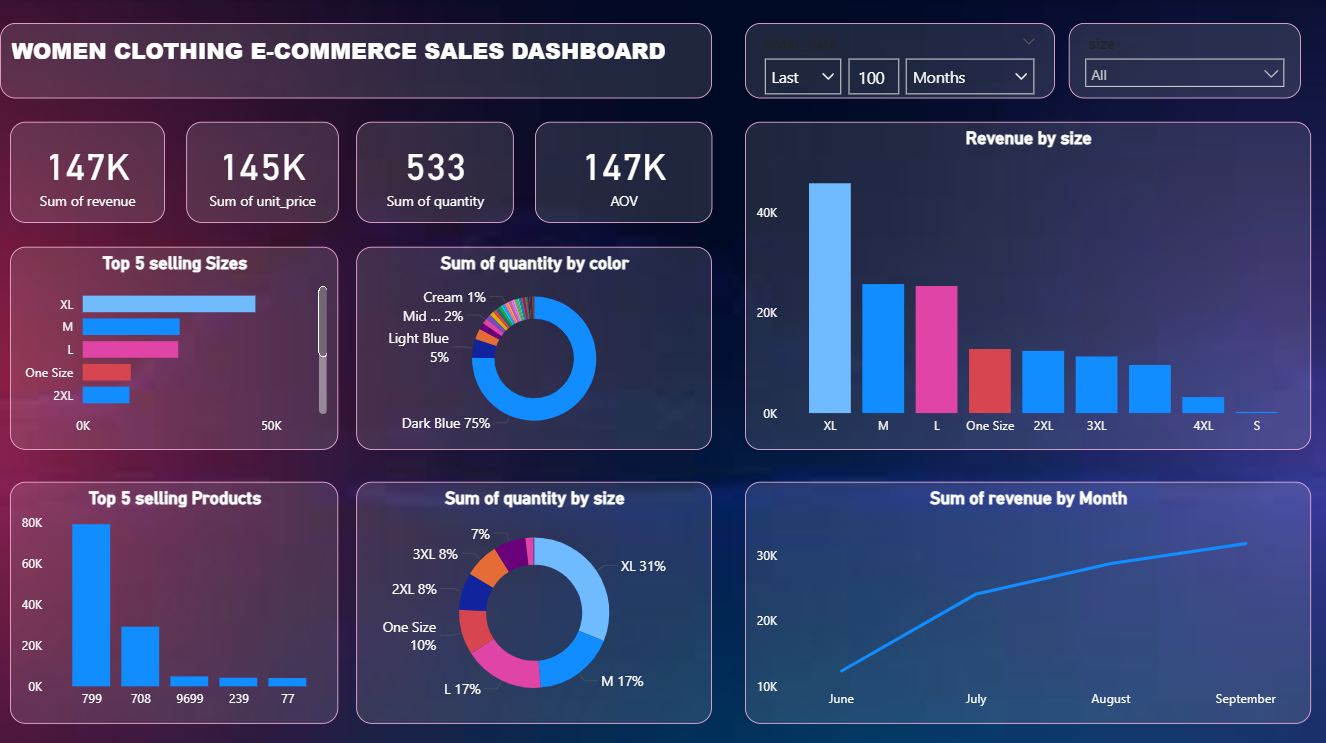

The page's visual inventory and layout, read from the dashboard file:
{"tool":"powerbi","page":{"name":"Page 1","canvas":[1280,720],"ordinal":0},"visuals":[{"type":"textbox","box":[0,24.7,687.5,72.7],"z":0},{"type":"columnChart","title":" Revenue by size","fields":{"Category":["women_clothing_ecommerce_sales (2).size"],"Y":["Sum(women_clothing_ecommerce_sales (2).revenue)"]},"box":[719,119.4,546.1,317],"z":1000},{"type":"lineChart","fields":{"Y":["Sum(women_clothing_ecommerce_sales (2).revenue)"],"Category":["women_clothing_ecommerce_sales (2).order_date.Variation.Date Hierarchy.Month"]},"box":[719,466.6,546.1,233.3],"z":2000},{"type":"donutChart","fields":{"Y":["Sum(women_clothing_ecommerce_sales (2).quantity)"],"Category":["women_clothing_ecommerce_sales (2).size"]},"box":[344.4,466.6,343.1,233.3],"z":3000},{"type":"donutChart","fields":{"Category":["women_clothing_ecommerce_sales (2).color"],"Y":["Sum(women_clothing_ecommerce_sales (2).quantity)"]},"box":[344.4,240.1,343.1,196.2],"z":4000},{"type":"card","fields":{"Values":["Sum(women_clothing_ecommerce_sales (2).revenue)"]},"box":[9.6,119.4,149.6,97.4],"z":5000},{"type":"card","fields":{"Values":["Sum(women_clothing_ecommerce_sales (2).unit_price)"]},"box":[179.8,119.4,146.8,97.4],"z":6000},{"type":"card","fields":{"Values":["Sum(women_clothing_ecommerce_sales (2).quantity)"]},"box":[344.4,119.4,152.3,97.4],"z":7000},{"type":"card","fields":{"Values":["Sum(women_clothing_ecommerce_sales (2).revenue)"]},"box":[516,119.4,171.5,97.4],"z":8000},{"type":"clusteredBarChart","title":"Top 5 selling Sizes","fields":{"Category":["women_clothing_ecommerce_sales (2).size"],"Y":["Sum(women_clothing_ecommerce_sales (2).revenue)"]},"box":[9.6,240.1,317,196.2],"z":9000},{"type":"columnChart","title":"Top 5 selling Products","fields":{"Category":["women_clothing_ecommerce_sales (2).sku"],"Y":["Sum(women_clothing_ecommerce_sales (2).revenue)"]},"box":[9.6,466.6,317,233.3],"z":10000},{"type":"slicer","fields":{"Values":["women_clothing_ecommerce_sales (2).size"]},"box":[1031.9,24.7,223.7,72.7],"z":11000},{"type":"slicer","fields":{"Values":["women_clothing_ecommerce_sales (2).order_date"]},"box":[719,24.7,299.1,72.7],"z":12000}]}

Visuals, with their boxes in screenshot pixels (x1, y1, x2, y2), scaled from the page's 1280x720 canvas onto the 1326x743 screenshot:
textbox: l=0, t=25, r=712, b=101
" Revenue by size" columnChart: l=745, t=123, r=1311, b=450
lineChart - Sum(women_clothing_ecommerce_sales (2).revenue) x women_clothing_ecommerce_sales (2).order_date.Variation.Date Hierarchy.Month: l=745, t=482, r=1311, b=722
donutChart - Sum(women_clothing_ecommerce_sales (2).quantity) x women_clothing_ecommerce_sales (2).size: l=357, t=482, r=712, b=722
donutChart - women_clothing_ecommerce_sales (2).color x Sum(women_clothing_ecommerce_sales (2).quantity): l=357, t=248, r=712, b=450
card - Sum(women_clothing_ecommerce_sales (2).revenue): l=10, t=123, r=165, b=224
card - Sum(women_clothing_ecommerce_sales (2).unit_price): l=186, t=123, r=338, b=224
card - Sum(women_clothing_ecommerce_sales (2).quantity): l=357, t=123, r=515, b=224
card - Sum(women_clothing_ecommerce_sales (2).revenue): l=535, t=123, r=712, b=224
"Top 5 selling Sizes" clusteredBarChart: l=10, t=248, r=338, b=450
"Top 5 selling Products" columnChart: l=10, t=482, r=338, b=722
slicer - women_clothing_ecommerce_sales (2).size: l=1069, t=25, r=1301, b=101
slicer - women_clothing_ecommerce_sales (2).order_date: l=745, t=25, r=1055, b=101
